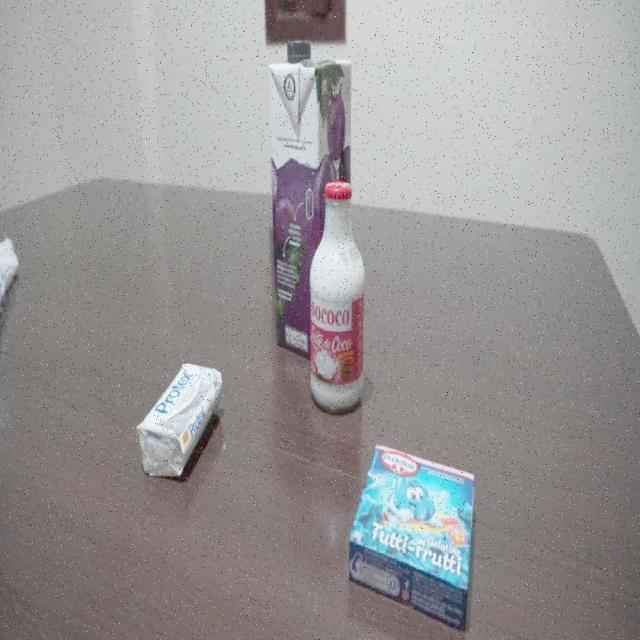CoconutMilk: (308, 180, 366, 416)
Gelatine: (349, 442, 477, 632)
Soap: (135, 362, 224, 479)
